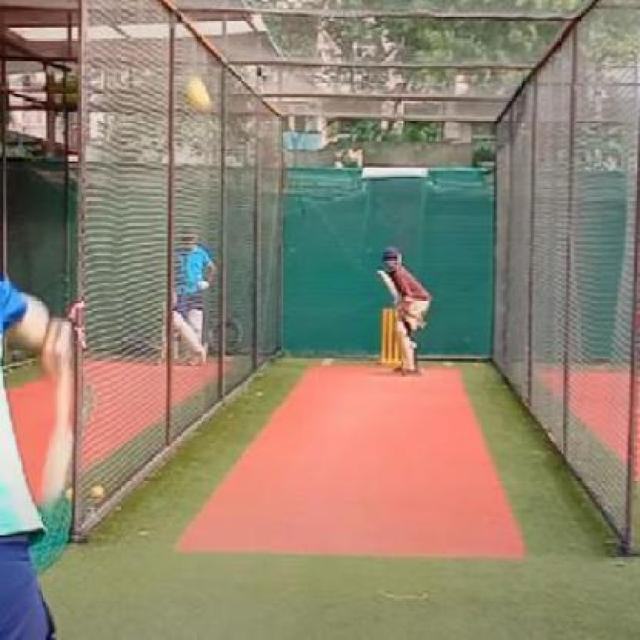ball: (178, 68, 218, 120)
